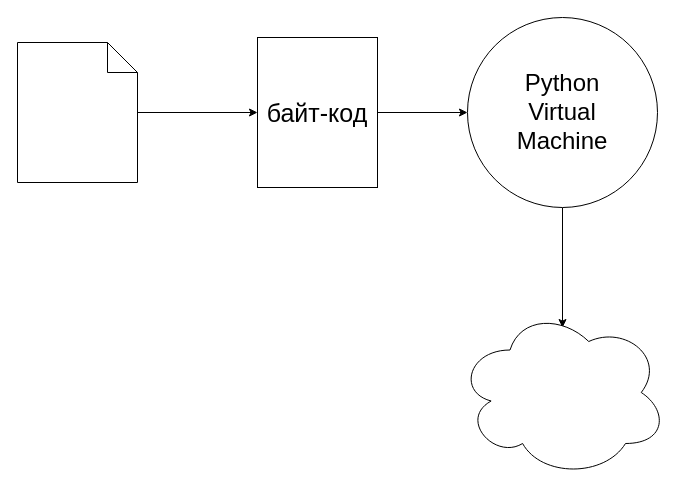
The diagram is 685 pixels wide and 495 high, and some of its shapes have lost their labels. The centre of each missing label's shape, as x and y in pixels:
code.py: point 77,112
OP-codes: point 562,392
